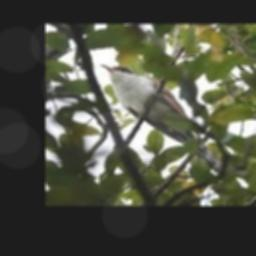Cuckoo: (101, 63, 224, 172)
